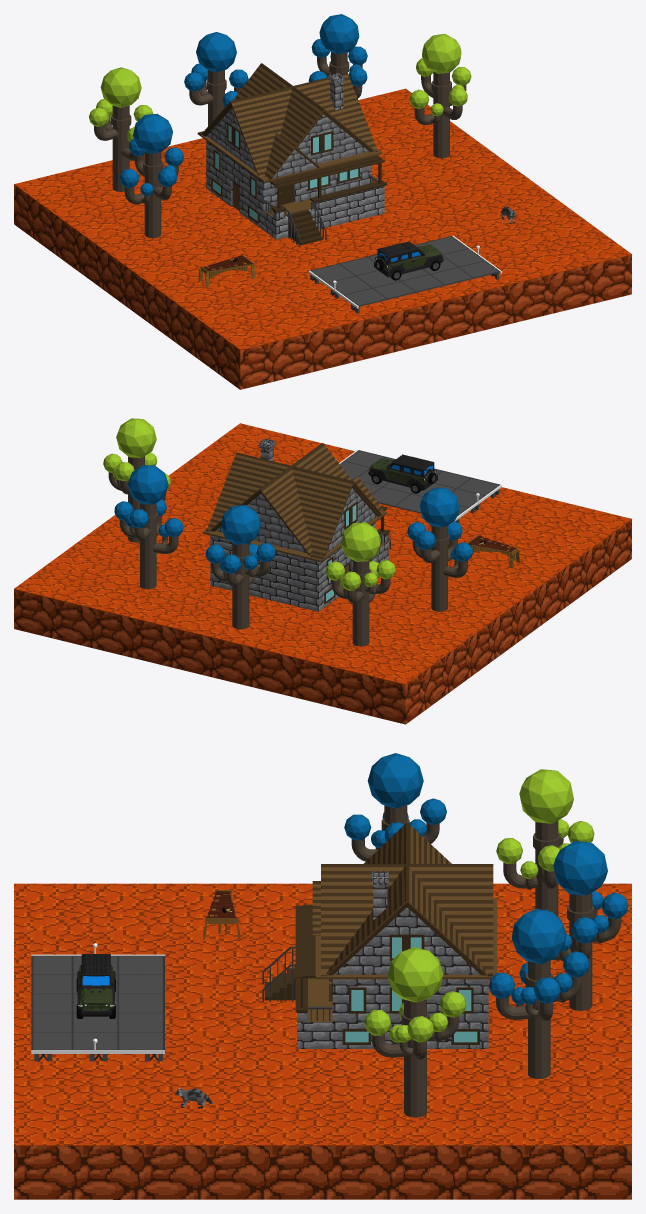
The picture shows the model from 3 angles, top to bottom: view 1: azimuth 30°, elevation 25°; view 2: azimuth 150°, elevation 25°; view 3: azimuth 270°, elevation 25°; orthographic projection. The views are drawn at different scales.
Parts seen in each view (by area): view 1: Cube.001, Cube.586, VEHICLES_JEEP, OBJRANDOM_MARIMBA; view 2: Cube.001, Cube.586, VEHICLES_JEEP, OBJRANDOM_MARIMBA; view 3: Cube.001, Cube.586, VEHICLES_JEEP, OBJRANDOM_MARIMBA.
Boxes of the visible parts, x1,y1,x2,y2 form: Cube.001: [14, 14, 631, 389]; Cube.586: [197, 63, 387, 246]; VEHICLES_JEEP: [374, 241, 443, 280]; OBJRANDOM_MARIMBA: [198, 254, 255, 286]; Cube.001: [14, 418, 631, 724]; Cube.586: [202, 438, 390, 611]; VEHICLES_JEEP: [368, 454, 437, 493]; OBJRANDOM_MARIMBA: [467, 534, 520, 568]; Cube.001: [14, 753, 631, 1199]; Cube.586: [262, 823, 497, 1048]; VEHICLES_JEEP: [76, 954, 115, 1018]; OBJRANDOM_MARIMBA: [203, 890, 240, 940].
Bounding box in the file's own units: 4000 × 1637 × 4000.
Materials: 30 (5 with a texture image).
